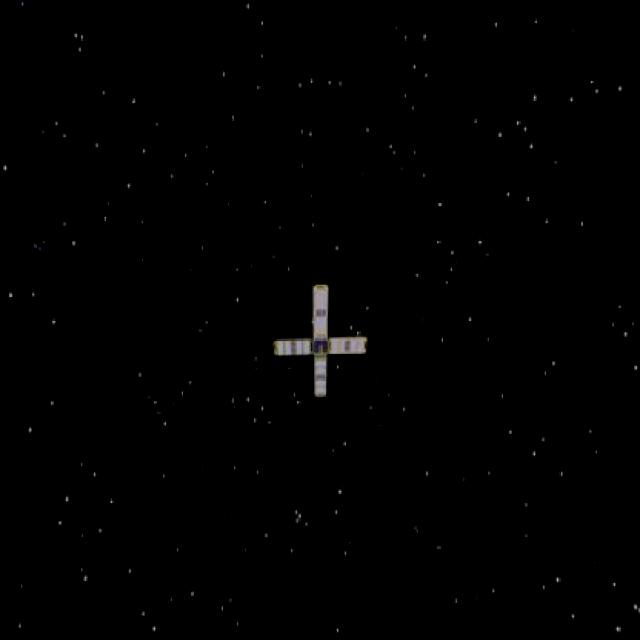medium_debris: (258, 277, 387, 408)
